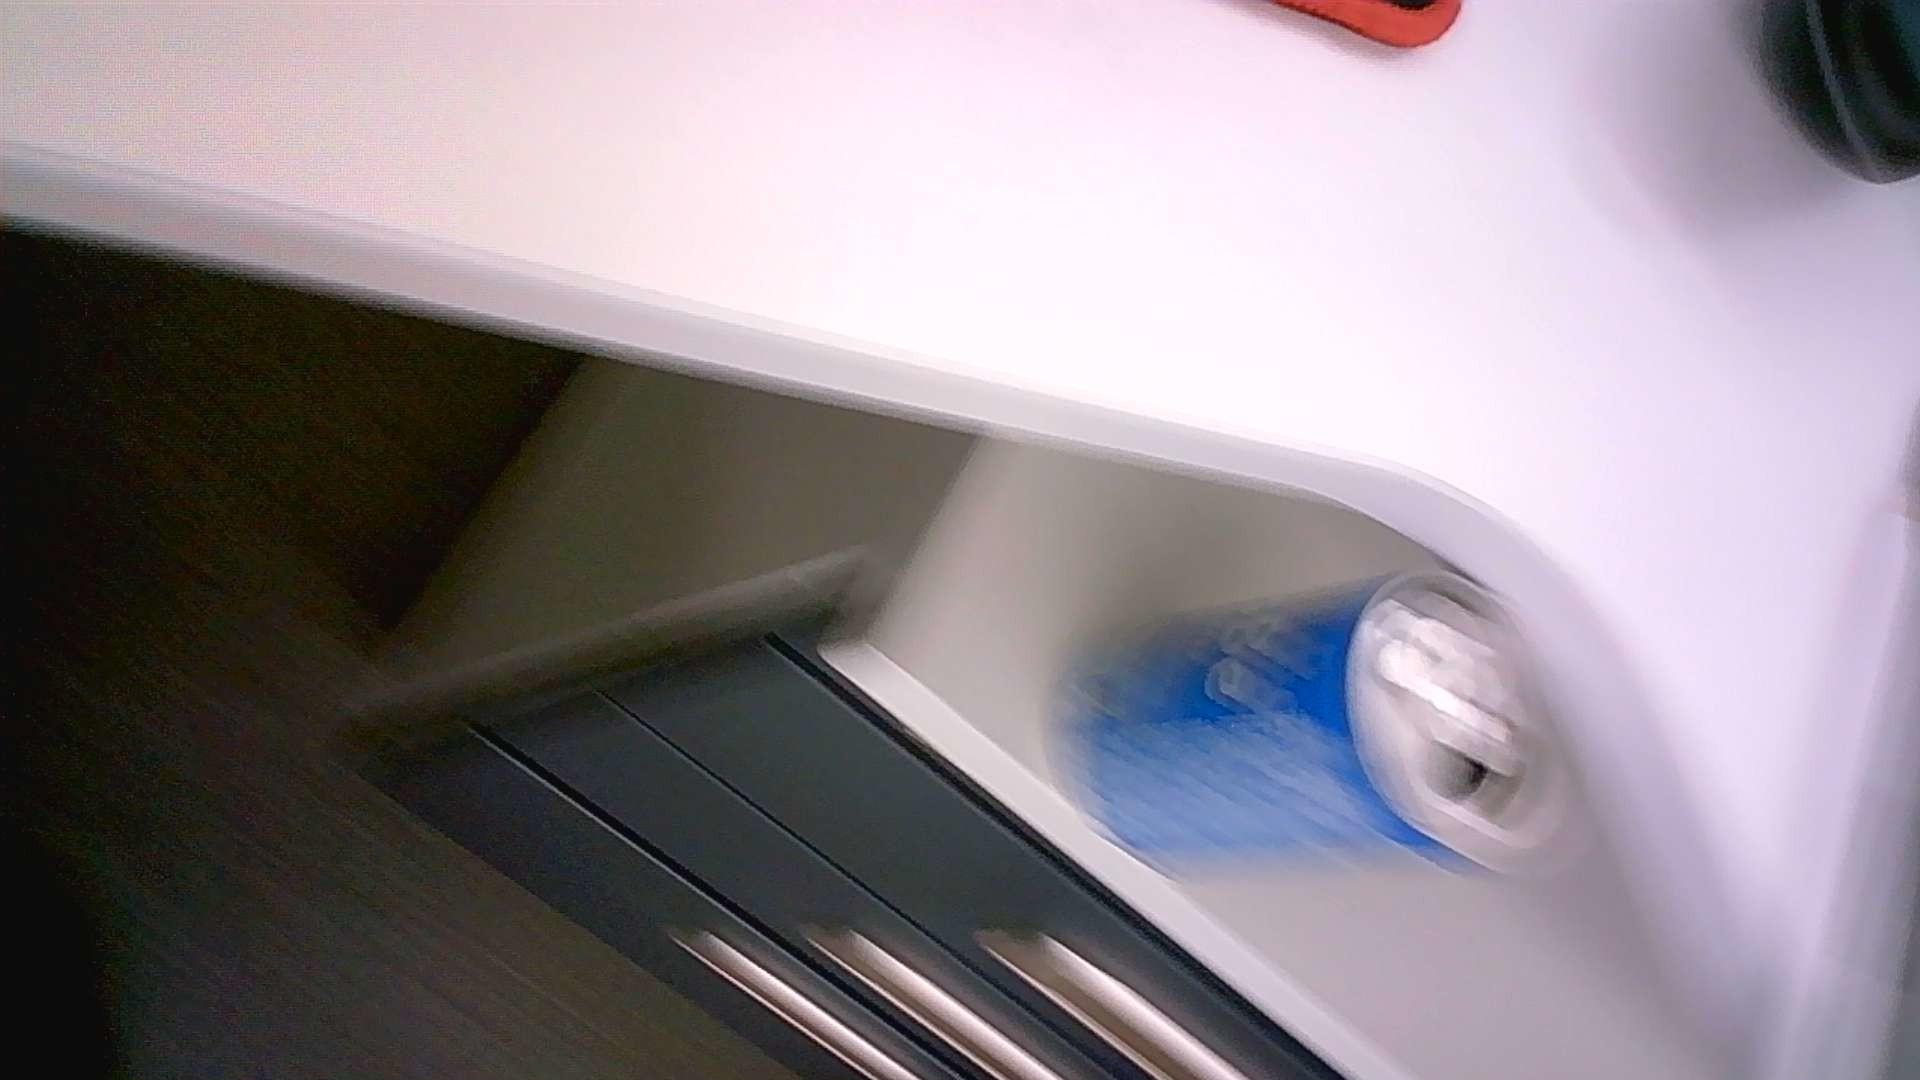letsbe: (1051, 563, 1592, 877)
